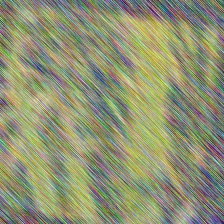Bacterial_Leaf_Blight: (150, 33, 162, 59), (147, 158, 157, 187)
